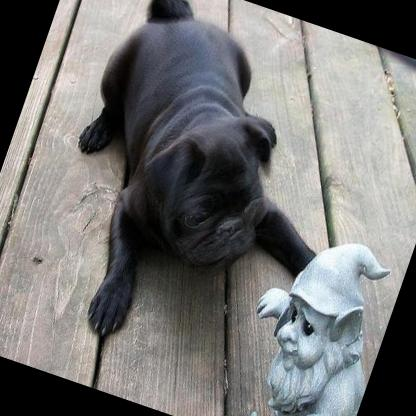pug: (16, 0, 387, 396)
